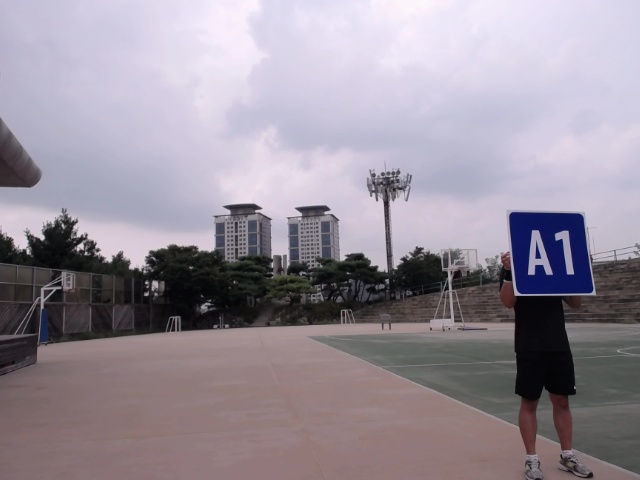delivery_a1: (509, 211, 596, 295)
